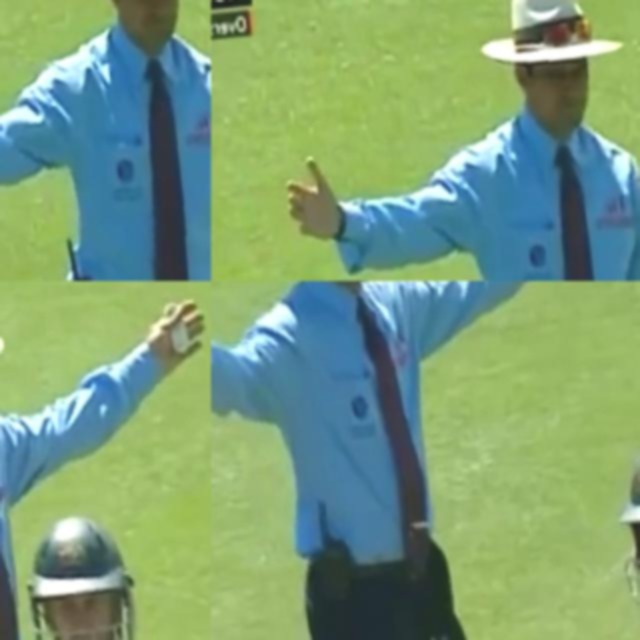No_Ball: (266, 0, 640, 281), (0, 0, 211, 281)
Wide: (211, 281, 640, 640), (0, 281, 211, 622)
